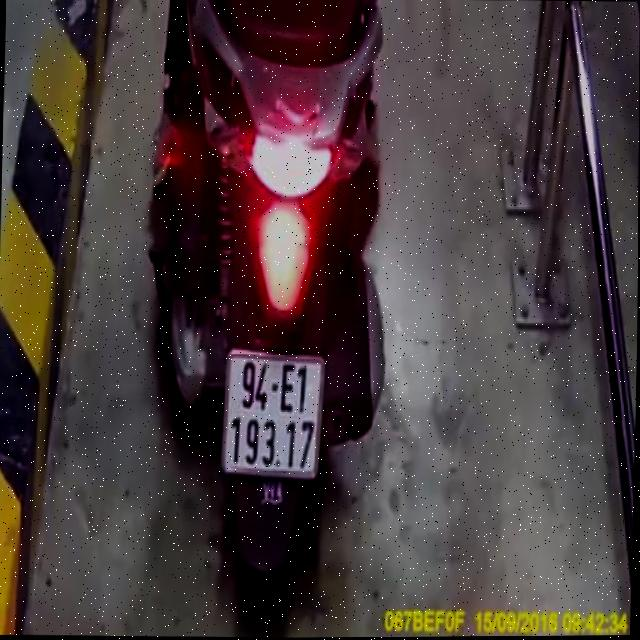motorcycle: (143, 0, 406, 603)
plate: (220, 346, 329, 484)
